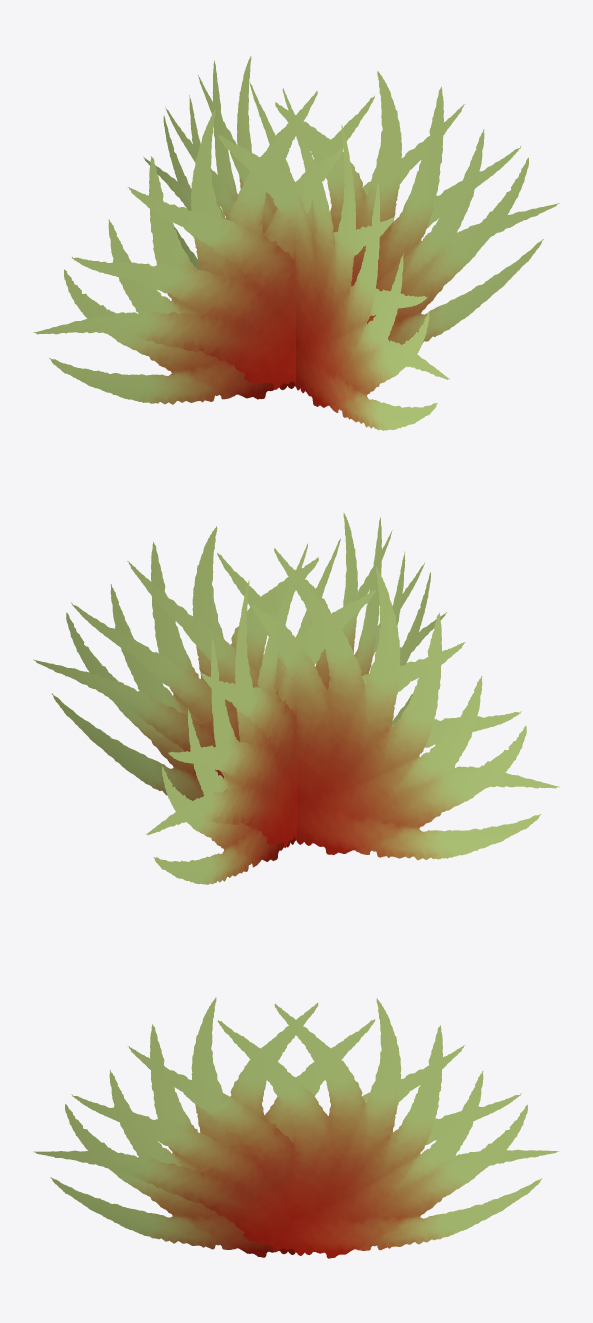
File: HP3_weed072 1.fbx
3 views of the same model, one above another, from view 1: azimuth 30°, elevation 25°; view 2: azimuth 150°, elevation 25°; view 3: azimuth 270°, elevation 25° (orthographic). The views are drawn at different scales.
Parts seen in each view (by area): view 1: HP3_weed072; view 2: HP3_weed072; view 3: HP3_weed072.
Boxes of the visible parts, x1,y1,x2,y2 form: HP3_weed072: (33, 56, 559, 430); HP3_weed072: (33, 513, 559, 884); HP3_weed072: (33, 997, 559, 1258).
Size of the model in its own units: 10.43 by 5.93 by 10.43.
